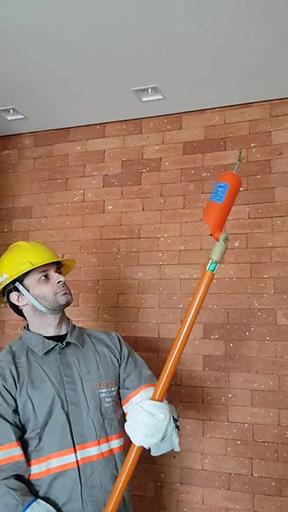Detector_Tensao_Contato: (202, 144, 249, 242)
Vara_Manobra: (104, 241, 226, 512)
